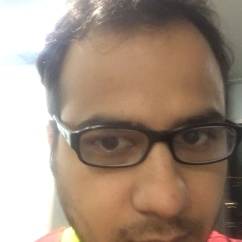glasses: (51, 116, 239, 162)
